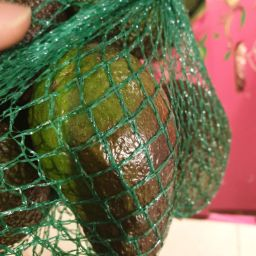Avocado: (43, 45, 193, 256), (163, 74, 239, 228)
